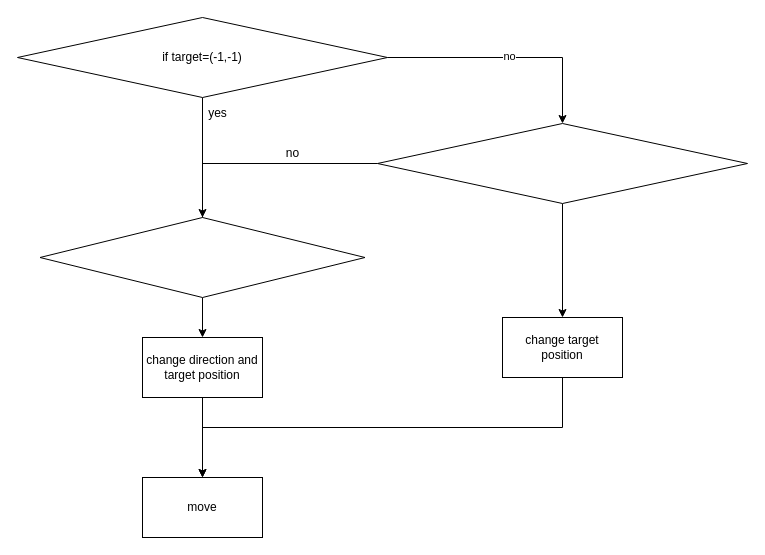
This 765x555 diagram has some shape labels left out. Each missing label, with the centre of its shape:
if hunting range of last positon of target real: the point at 562,163
serching new target: the point at 202,257
